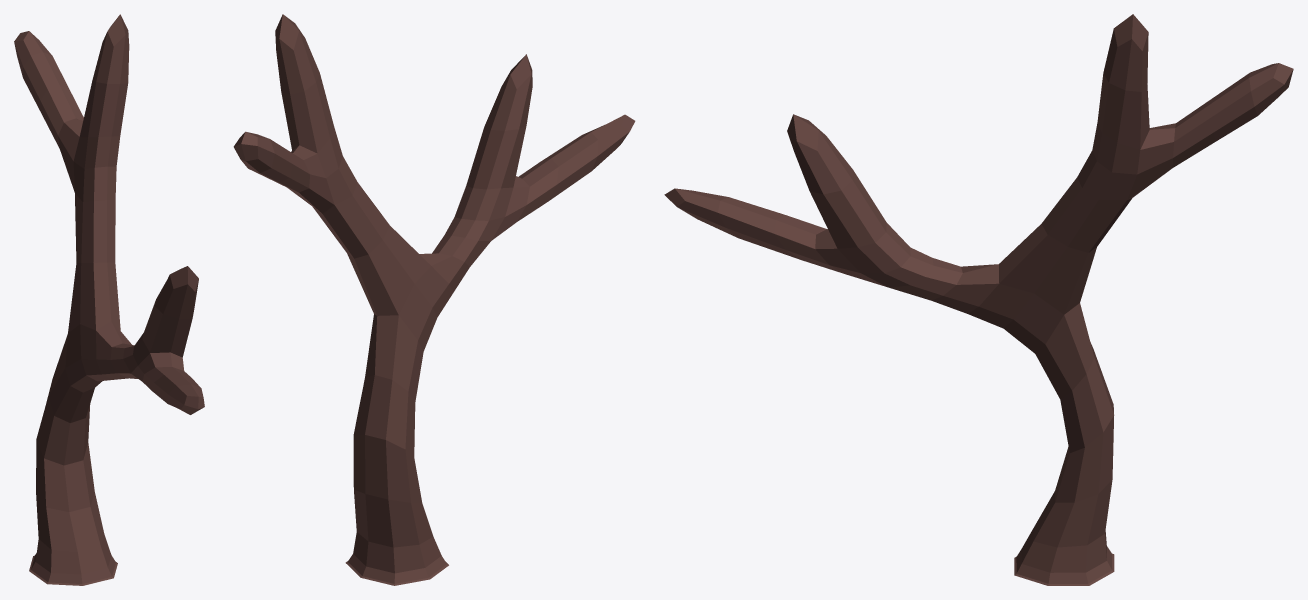
3 views of the same model, side by side, from view 1: azimuth 30°, elevation 25°; view 2: azimuth 150°, elevation 25°; view 3: azimuth 270°, elevation 25° (orthographic). The views are drawn at different scales.
Parts seen in each view (by area): view 1: Willow_Dead_5; view 2: Willow_Dead_5; view 3: Willow_Dead_5.
Boxes of the visible parts, x1=… form: Willow_Dead_5: x1=14, y1=14, x2=204, y2=585; Willow_Dead_5: x1=233, y1=14, x2=635, y2=585; Willow_Dead_5: x1=664, y1=14, x2=1293, y2=585.
Size of the model in its own units: 0.567 by 2.04 by 1.95.
